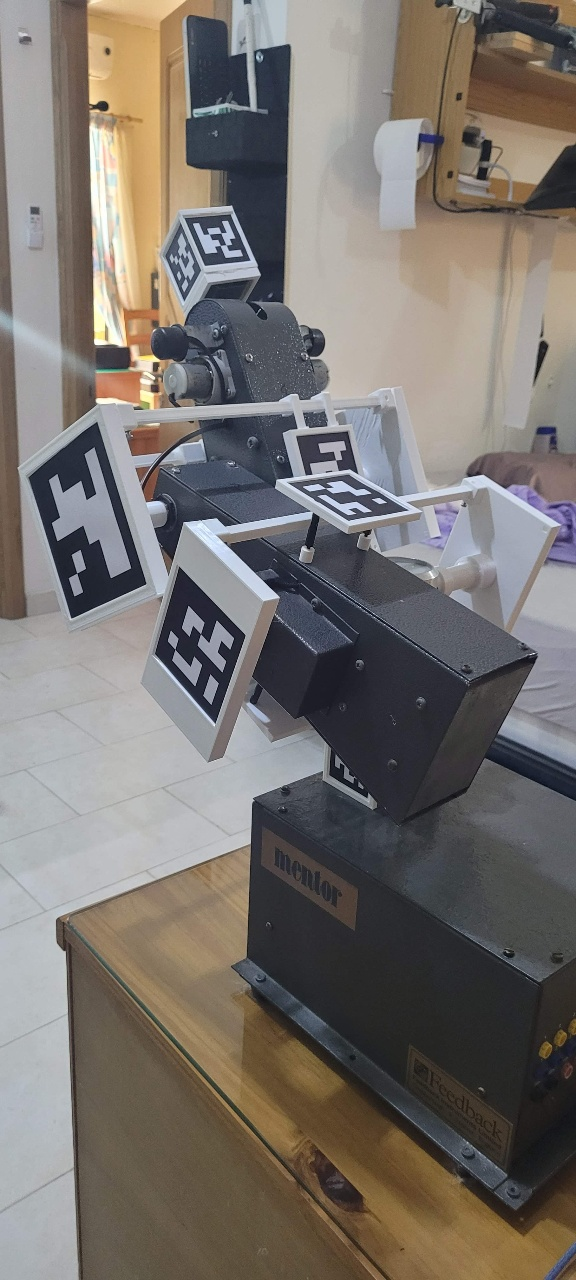Robot: (15, 201, 563, 827)
